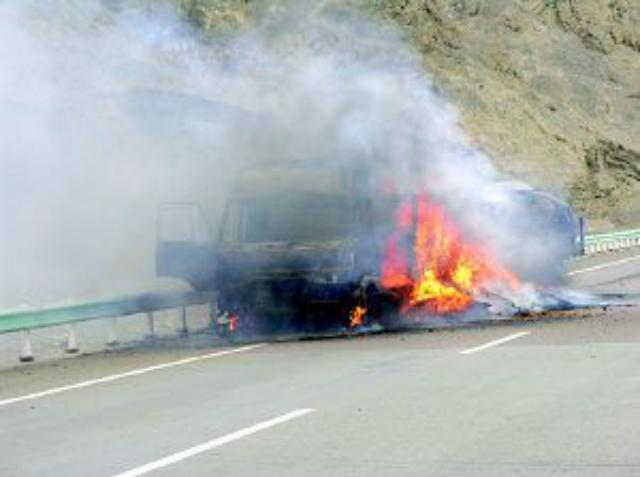fire: (409, 240, 483, 310), (416, 200, 452, 239), (380, 246, 404, 284)
